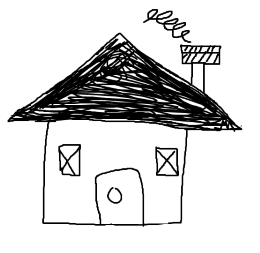closed_window: (55, 140, 84, 181), (150, 143, 183, 179)
door: (90, 167, 149, 232)
shaded_roof: (7, 32, 243, 131)
smoking_chimney: (142, 6, 231, 94)
wall: (39, 116, 190, 231)
